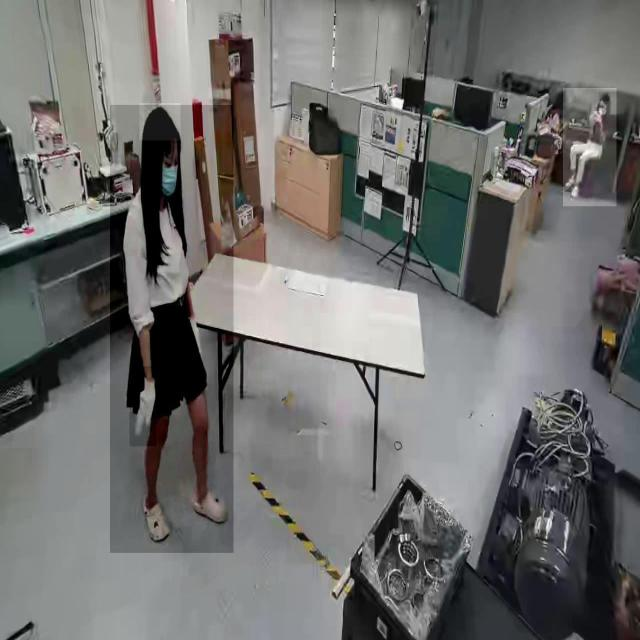face_mask: (154, 147, 182, 208)
hand_glove: (129, 366, 157, 447)
hand_noglove: (594, 111, 602, 123)
head_nohelmet: (139, 103, 181, 141), (598, 92, 610, 102)
person: (110, 105, 234, 554), (563, 88, 617, 207)
